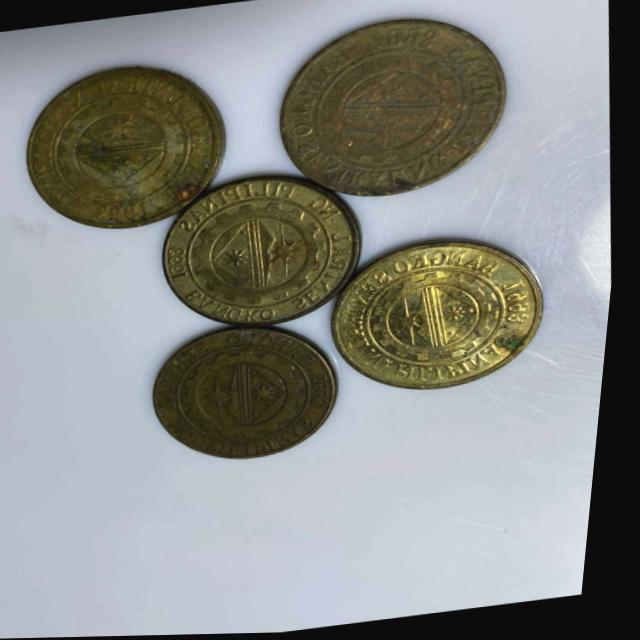25Cent_Old_Back: (264, 15, 523, 207), (333, 229, 567, 403), (15, 61, 233, 237), (158, 170, 366, 332), (150, 326, 342, 471)
